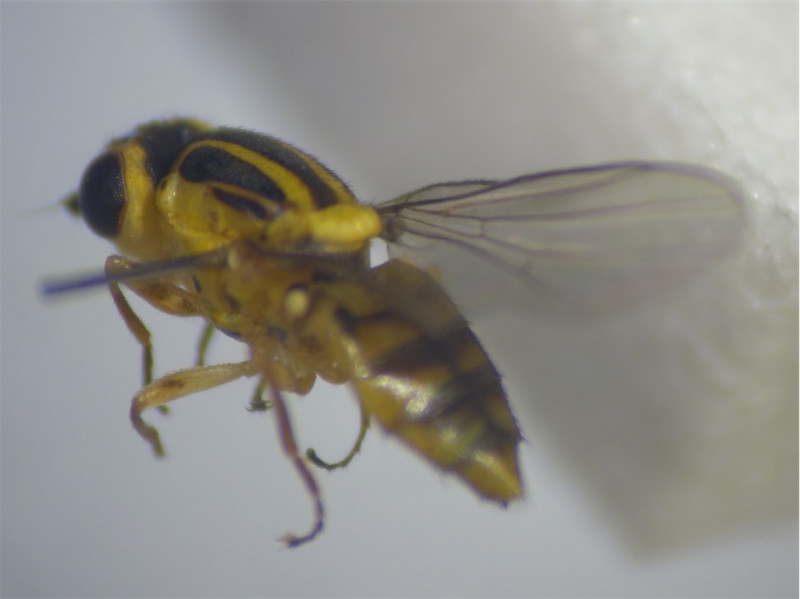Chloropidae: (58, 113, 753, 556)
